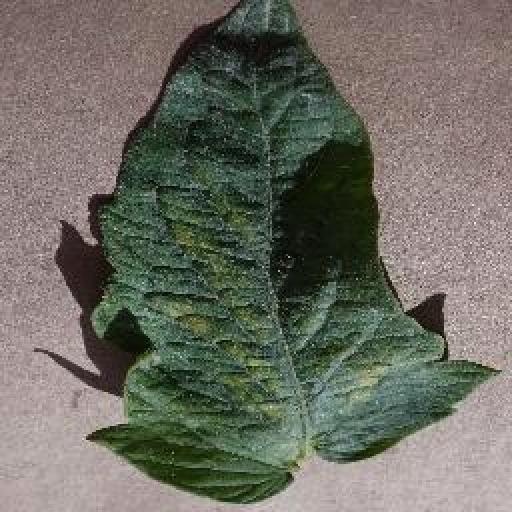disease_tomato: (92, 0, 500, 502)
